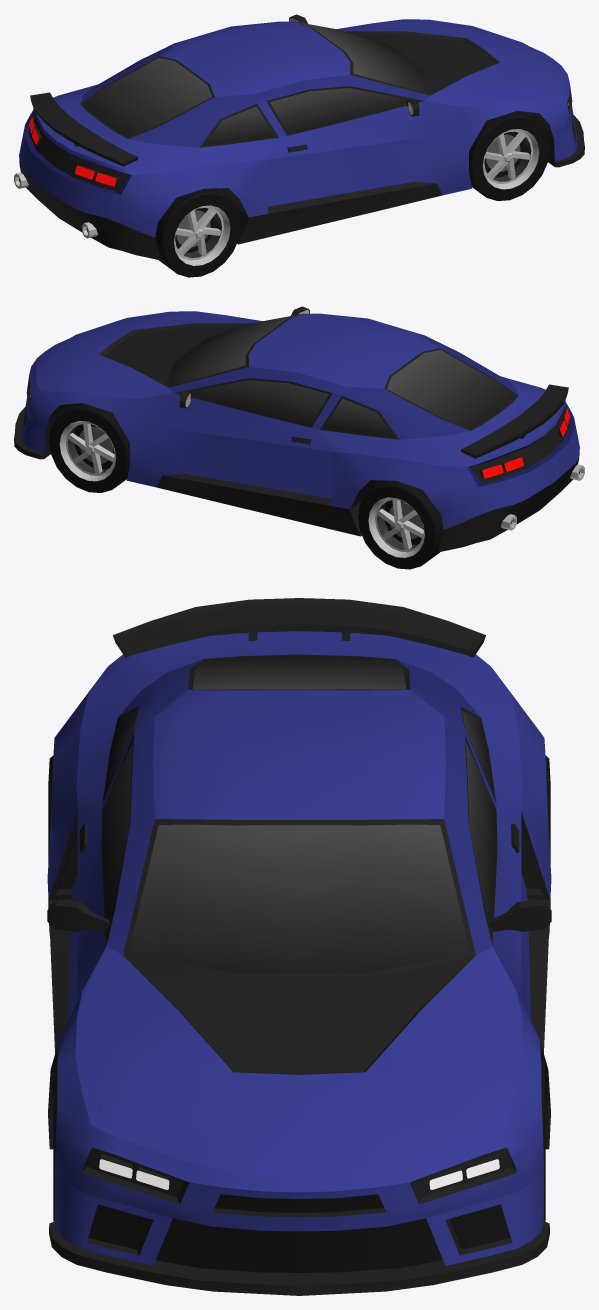
File: Car_163.glb
The picture shows the model from 3 angles, top to bottom: view 1: azimuth 30°, elevation 25°; view 2: azimuth 150°, elevation 25°; view 3: azimuth 270°, elevation 25°; orthographic projection. The views are drawn at different scales.
Visible parts, largest first — view 1: Car_163, wheel_3_Car_163_Wheel_2R, wheel_1_Car_163_Wheel_1R; view 2: Car_163, wheel_2_Car_163_Wheel_2L, wheel_0_Car_163_Wheel_1L; view 3: Car_163.
Boxes of the visible parts, x1=… form: Car_163: x1=14, y1=14, x2=584, y2=260; wheel_3_Car_163_Wheel_2R: x1=155, y1=188, x2=240, y2=277; wheel_1_Car_163_Wheel_1R: x1=469, y1=111, x2=549, y2=200; Car_163: x1=14, y1=306, x2=584, y2=552; wheel_2_Car_163_Wheel_2L: x1=358, y1=480, x2=443, y2=569; wheel_0_Car_163_Wheel_1L: x1=49, y1=403, x2=129, y2=492; Car_163: x1=47, y1=598, x2=551, y2=1295.
Bounding box in the file's own units: 4.74 × 1.35 × 2.
Materials: 2 (2 with a texture image).
